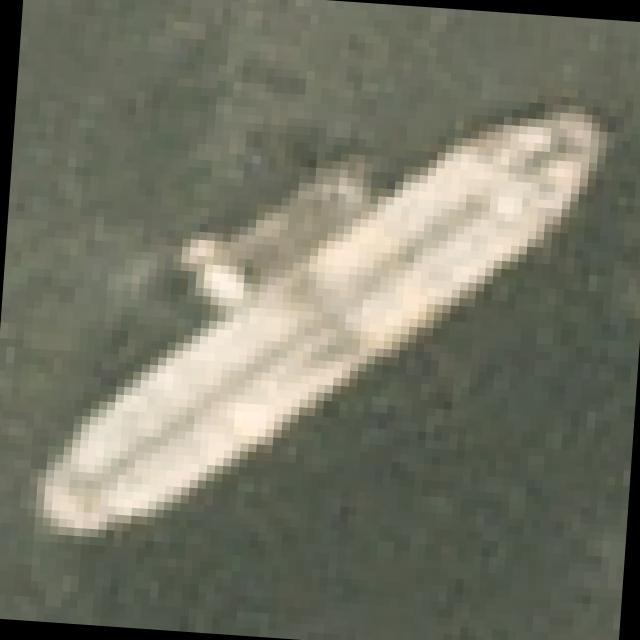ship: (22, 58, 627, 588)
